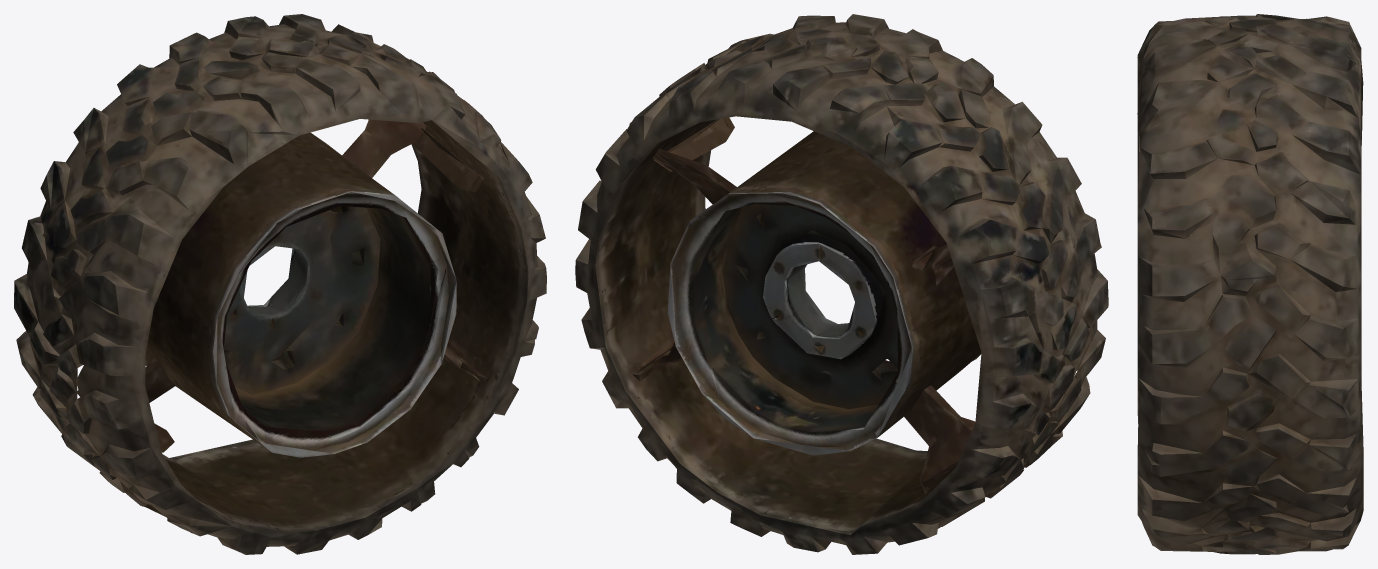
Rendered from decor.buggy_wheel_l.glb.
3 renders of one model, left to right at view 1: azimuth 30°, elevation 25°; view 2: azimuth 150°, elevation 25°; view 3: azimuth 270°, elevation 25°, orthographic. The views are drawn at different scales.
Parts seen in each view (by area): view 1: body; view 2: body; view 3: body.
Boxes of the visible parts, x1,y1,x2,y2 form: body: [14, 14, 546, 554]; body: [575, 14, 1108, 554]; body: [1137, 14, 1363, 554].
Size of the model in its own units: 1.44 by 1.43 by 0.6001.
Materials: 1 (1 with a texture image).
